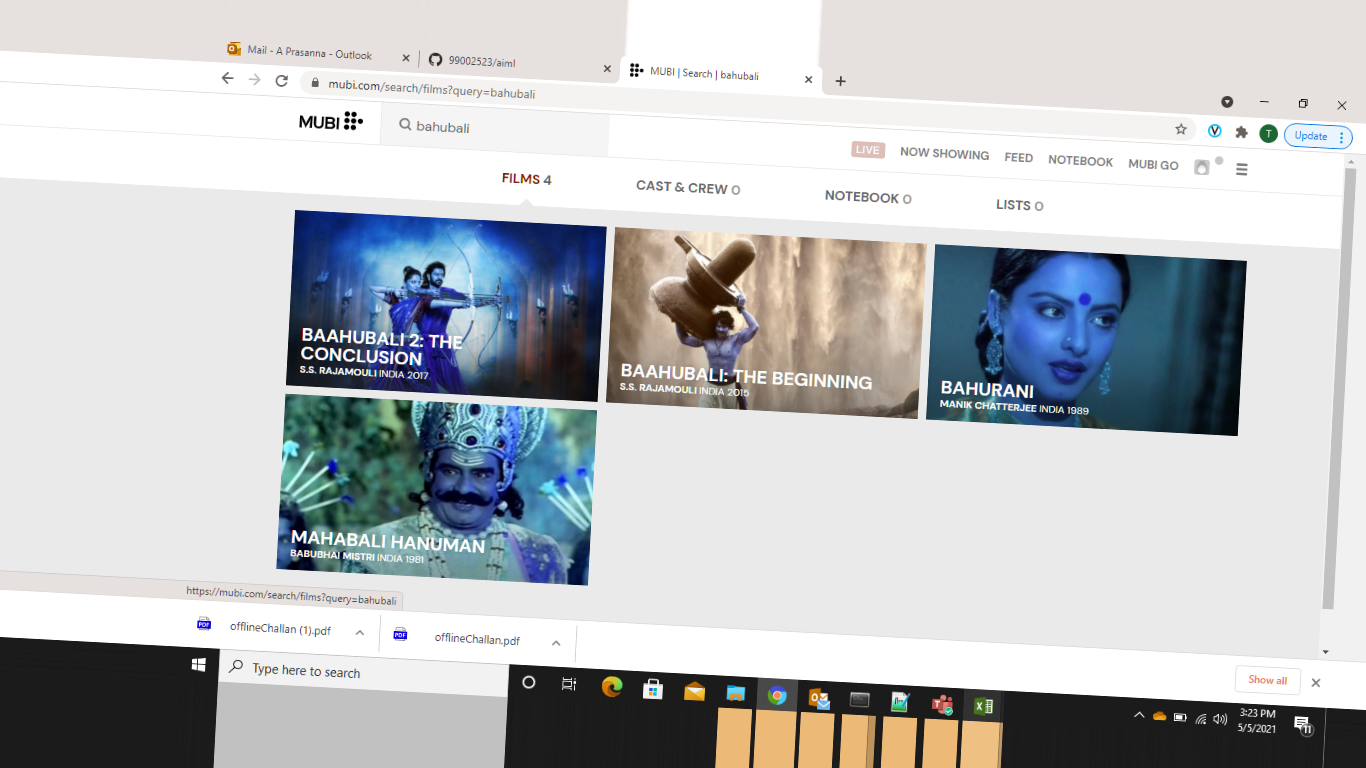profileicon: (1196, 151, 1225, 183)
searchicon: (396, 109, 419, 137)
searchtextbox: (377, 97, 622, 155)
